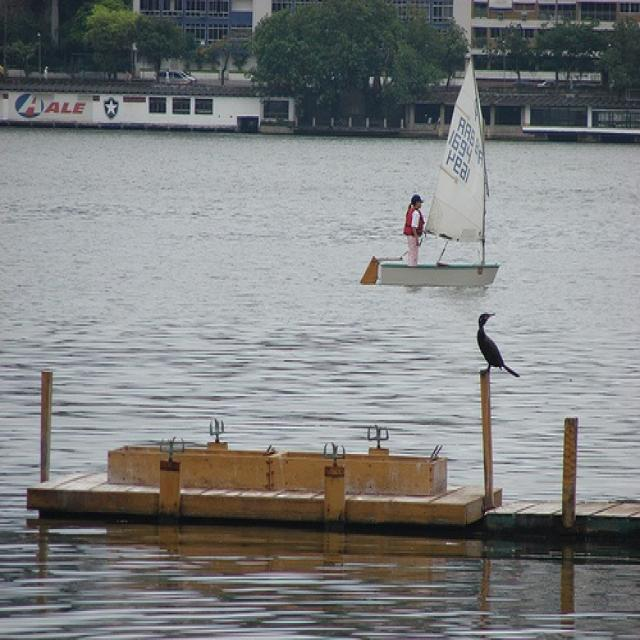bird: (477, 310, 521, 385)
boat: (362, 51, 504, 297)
person: (404, 194, 427, 272)
